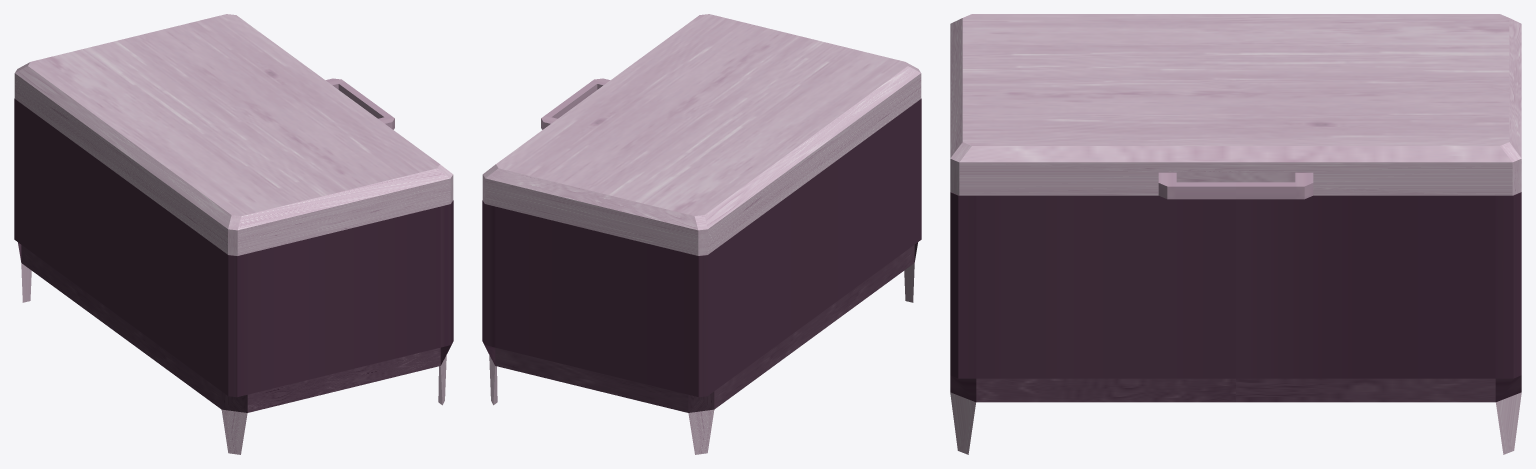
Rendered from bau_fechado.fbx.
The picture shows the model from 3 angles, left to right: view 1: azimuth 30°, elevation 25°; view 2: azimuth 150°, elevation 25°; view 3: azimuth 270°, elevation 25°; orthographic projection. The views are drawn at different scales.
Parts seen in each view (by area): view 1: Cube, Cube.001, Cube.002; view 2: Cube, Cube.001, Cube.002; view 3: Cube, Cube.001, Cube.002.
Boxes of the visible parts, x1,y1,x2,y2 form: Cube: (14,98,453,412); Cube.001: (14,14,453,255); Cube.002: (21,263,446,454); Cube: (482,98,921,412); Cube.001: (482,14,921,255); Cube.002: (489,263,914,454); Cube: (950,192,1521,402); Cube.001: (950,14,1521,199); Cube.002: (950,392,1521,454).
Bounding box in the file's own units: 189 × 173 × 293.
Materials: 3 (3 with a texture image).
